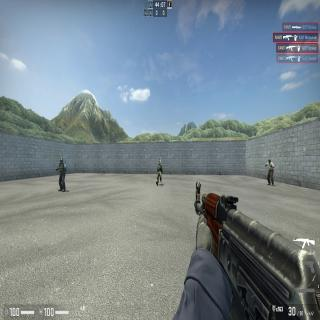CT-Body: (58, 157, 66, 192)
CT-Head: (60, 158, 63, 164)
T-Body: (267, 159, 274, 185)
T-Head: (268, 159, 271, 164)
